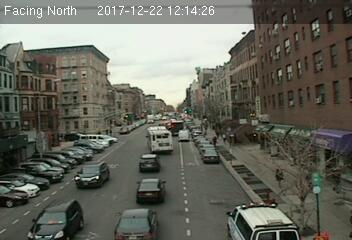bus: (146, 125, 174, 153)
car: (25, 199, 87, 240), (112, 207, 160, 240), (74, 161, 112, 190), (136, 179, 165, 204), (139, 152, 161, 172), (202, 149, 220, 163)
pedestrian: (275, 166, 286, 193)
police: (223, 199, 301, 240)
truck: (178, 128, 190, 141)
